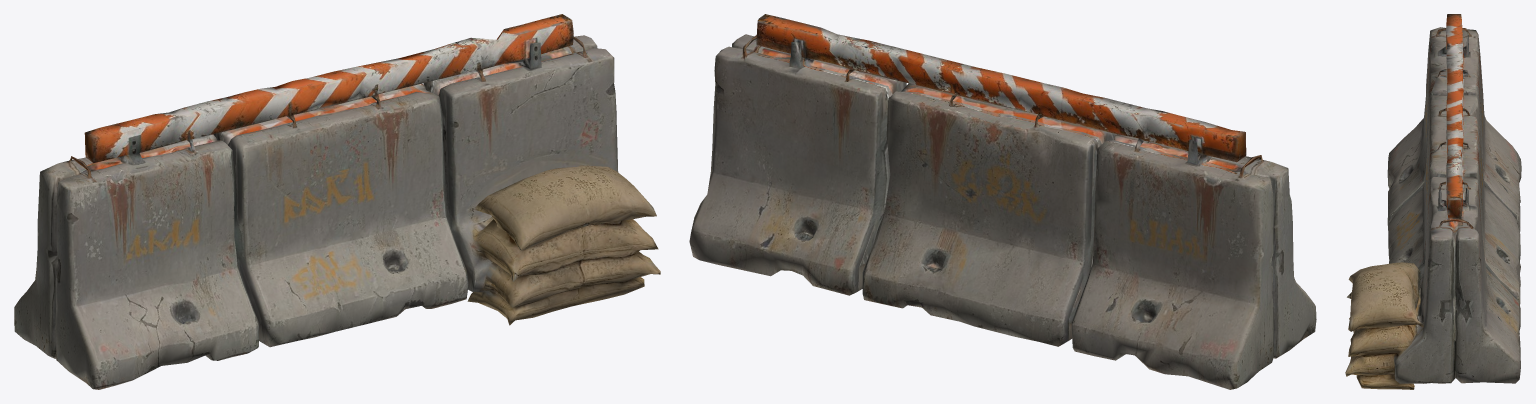
Rendered from Prop_Barricade.glb.
3 views of the same model, side by side, from view 1: azimuth 30°, elevation 25°; view 2: azimuth 150°, elevation 25°; view 3: azimuth 270°, elevation 25° (orthographic). The views are drawn at different scales.
Parts seen in each view (by area): view 1: texture_mapping; view 2: texture_mapping; view 3: texture_mapping.
Part boxes in pixels (box(x1,y1,x2,y2)): texture_mapping: box(14, 14, 660, 389); texture_mapping: box(689, 14, 1316, 389); texture_mapping: box(1345, 14, 1521, 389).
Bounding box in the file's own units: 0.994 × 0.4106 × 0.3482.
1 material, 1 textured.
